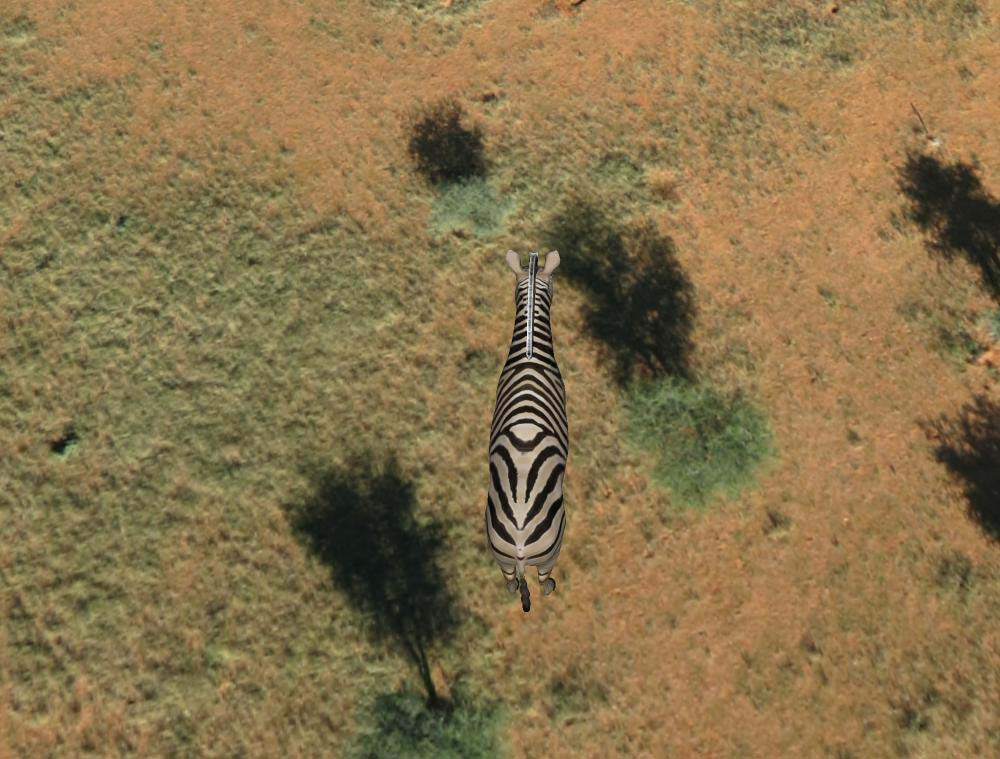zebra: (486, 243, 571, 610)
